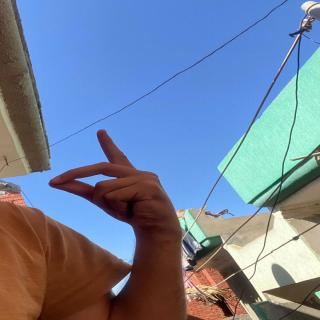TAA: (32, 128, 178, 226)
